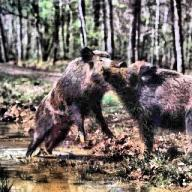boar: (25, 46, 127, 158)
